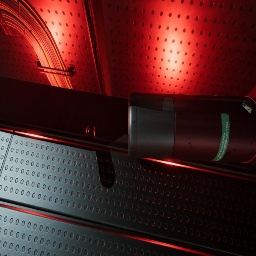NitrogenTank ,: (128, 92, 256, 163)
